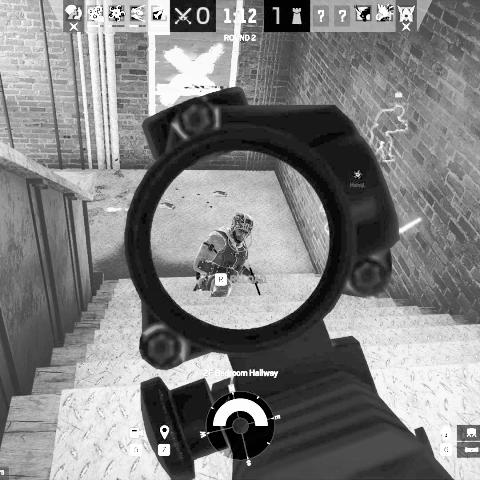Character: (192, 211, 256, 298)
Friend_label: (388, 90, 410, 106), (349, 169, 367, 188)
Head: (229, 212, 254, 243)
